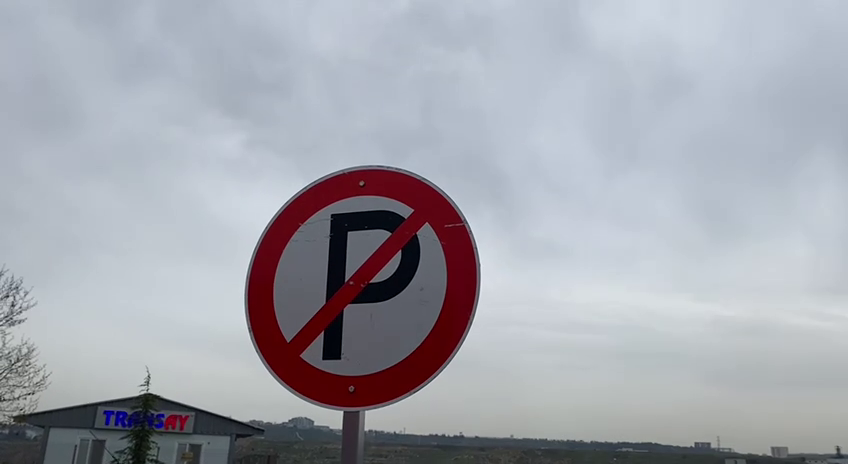noparking: (241, 159, 487, 415)
